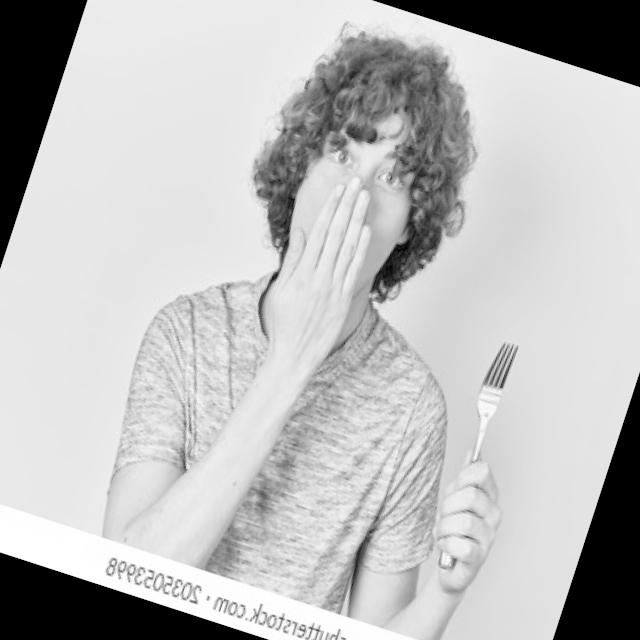fork: (423, 336, 524, 574)
